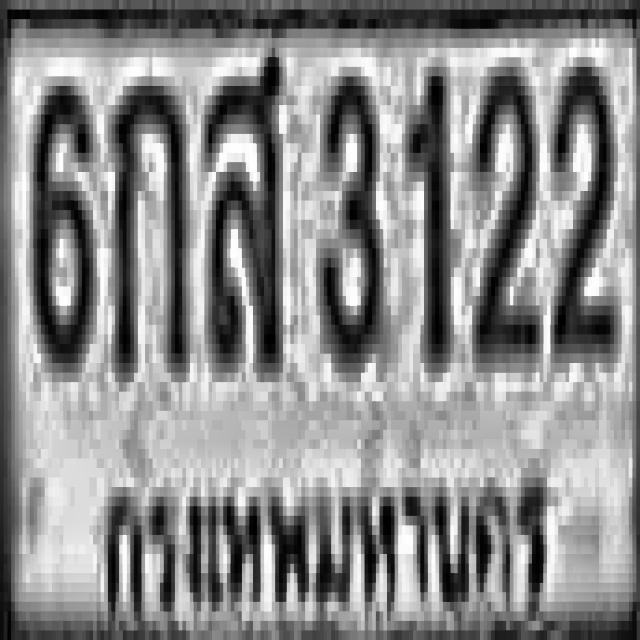license-plate: (11, 9, 628, 640)
